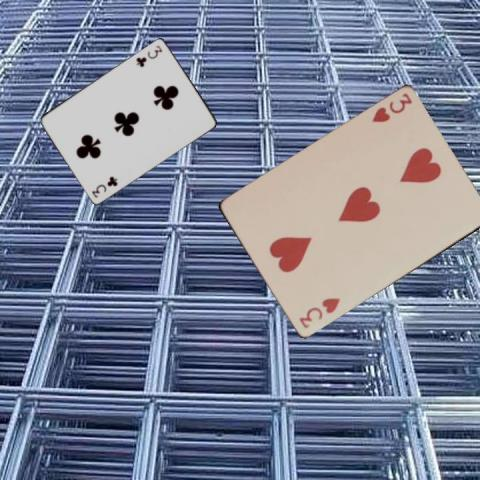3c: (134, 42, 164, 68), (88, 173, 118, 199)
3h: (296, 295, 341, 330), (369, 90, 414, 125)
